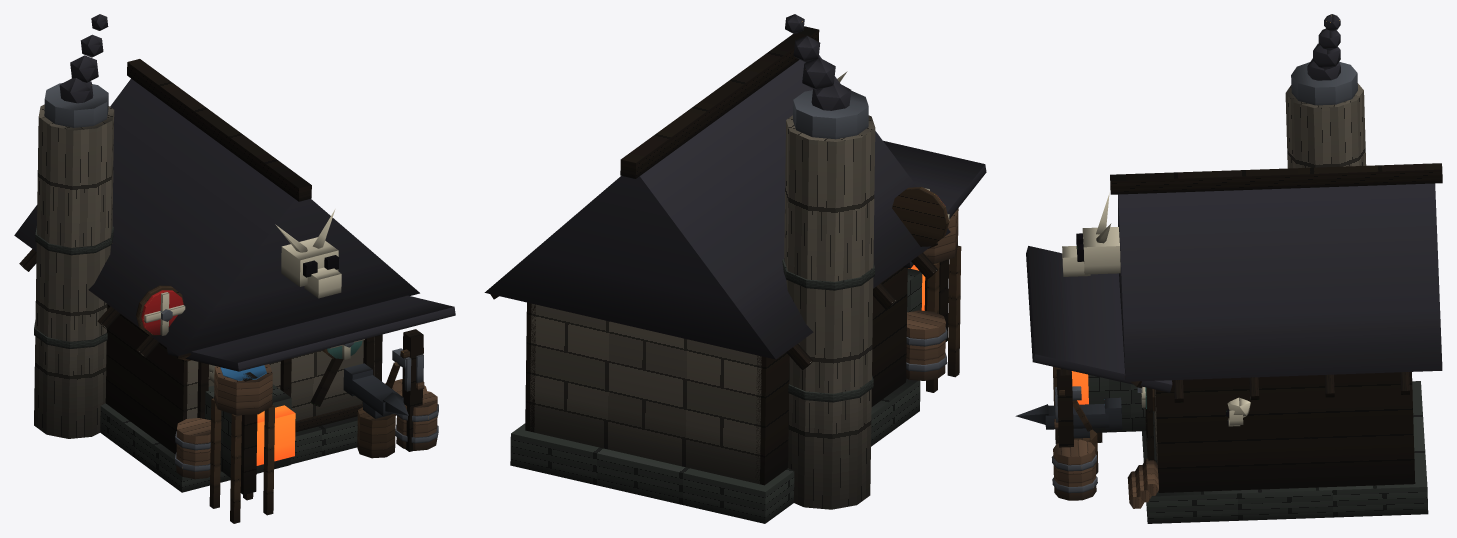
File: blacksmith.glb
3 renders of one model, left to right at view 1: azimuth 30°, elevation 25°; view 2: azimuth 150°, elevation 25°; view 3: azimuth 270°, elevation 25°, orthographic. The views are drawn at different scales.
Parts seen in each view (by area): view 1: blacksmith; view 2: blacksmith; view 3: blacksmith.
Boxes of the visible parts, <box> form: blacksmith: <box>14,14,455,523</box>; blacksmith: <box>484,14,986,523</box>; blacksmith: <box>1015,14,1442,523</box>.
Bounding box in the file's own units: 2.25 × 3.01 × 2.83.
Materials: 1 (1 with a texture image).
